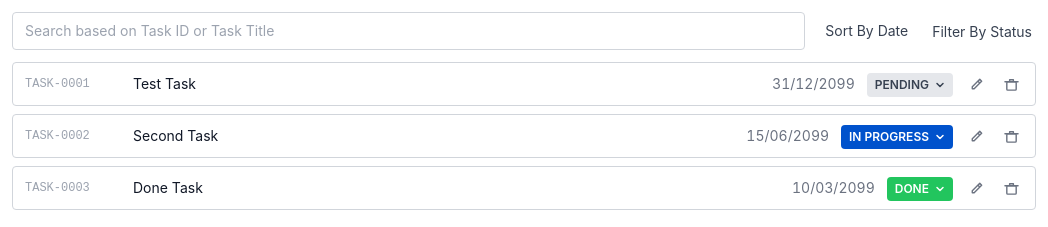
Test: TaskList › filter by status › shows all status checkboxes
The width and height of the screenshot is (1048, 227).
Click the button "Filter By Status" at x=982, y=32, box [928,22,1036,42]
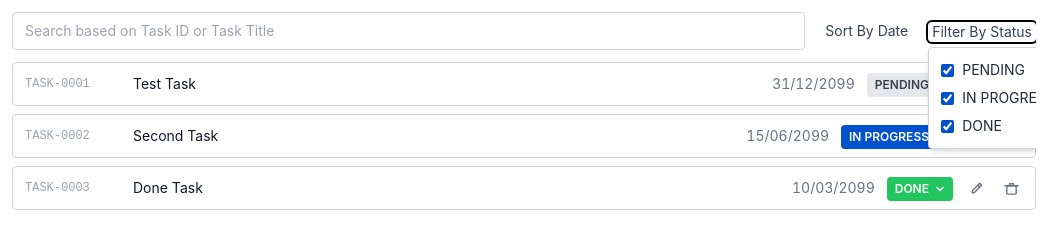
Expected: the checkbox labelled "PENDING" is checked, [941,64,954,76]
Expected: the checkbox labelled "IN PROGRESS" is checked, [941,92,954,104]
Expected: the checkbox labelled "DONE" is checked, [941,120,954,132]
